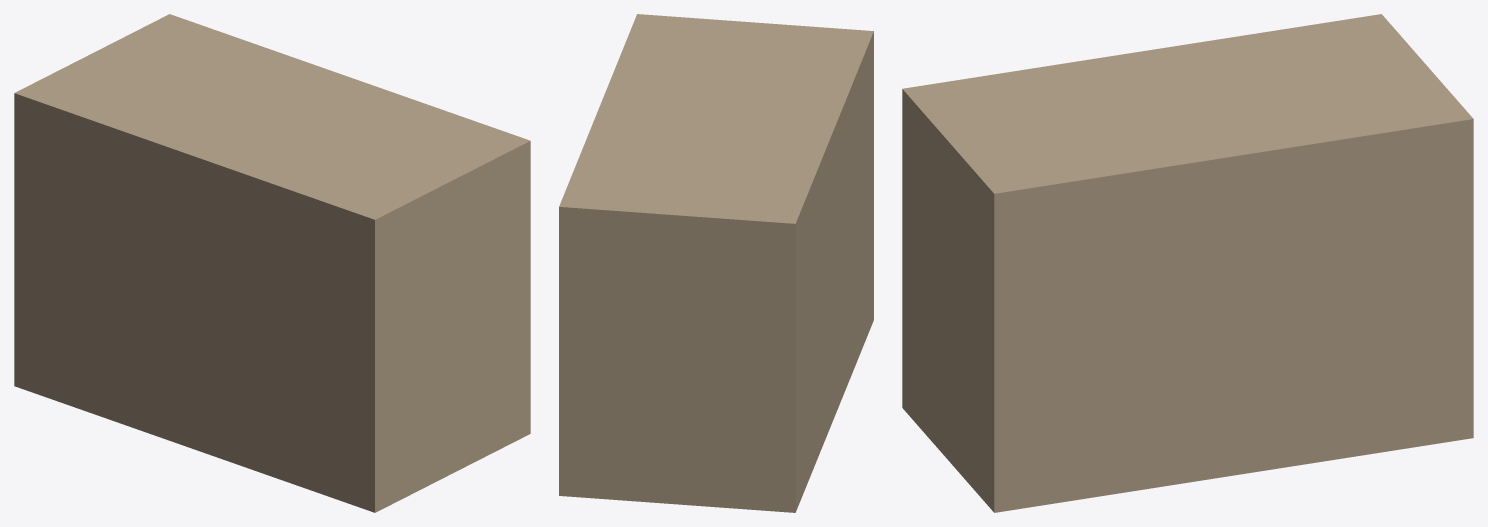
Rendered from bld_106796829.dae.
The picture shows the model from 3 angles, left to right: view 1: azimuth 30°, elevation 25°; view 2: azimuth 150°, elevation 25°; view 3: azimuth 270°, elevation 25°; orthographic projection. The views are drawn at different scales.
Visible parts, largest first — view 1: bld_106796829; view 2: bld_106796829; view 3: bld_106796829.
Boxes of the visible parts, <box> form: bld_106796829: <box>14,14,530,512</box>; bld_106796829: <box>559,14,873,512</box>; bld_106796829: <box>902,14,1473,512</box>.
Bounding box in the file's own units: 9.67 × 12.98 × 8.
